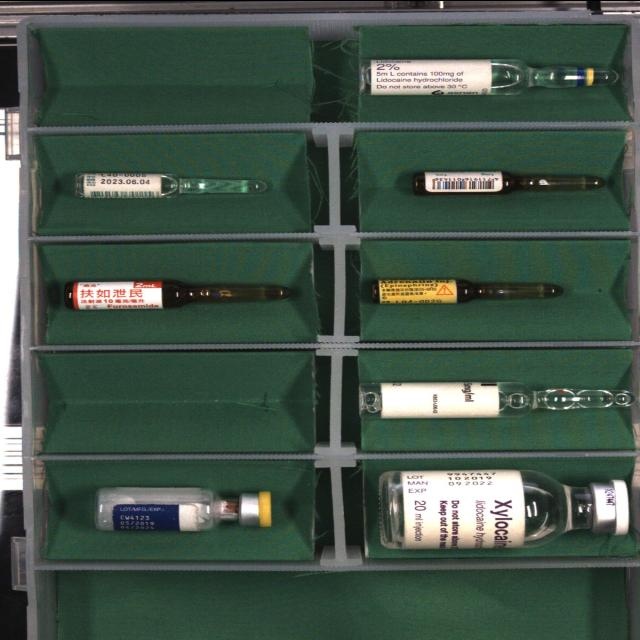Vials: (378, 468, 629, 549), (94, 486, 272, 530)
